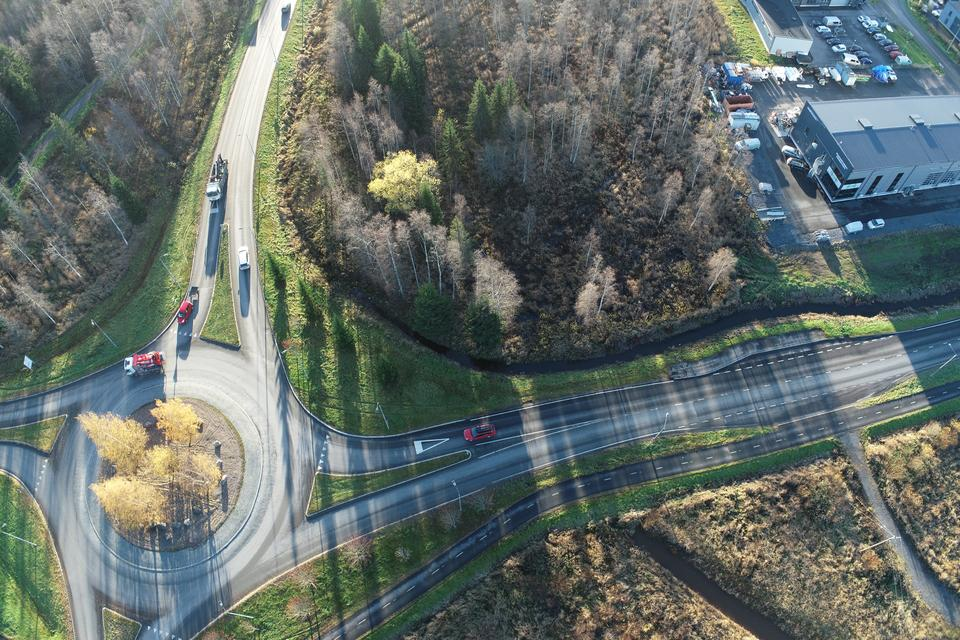intersection: (781, 318, 900, 480)
roundabout: (0, 279, 400, 640)
